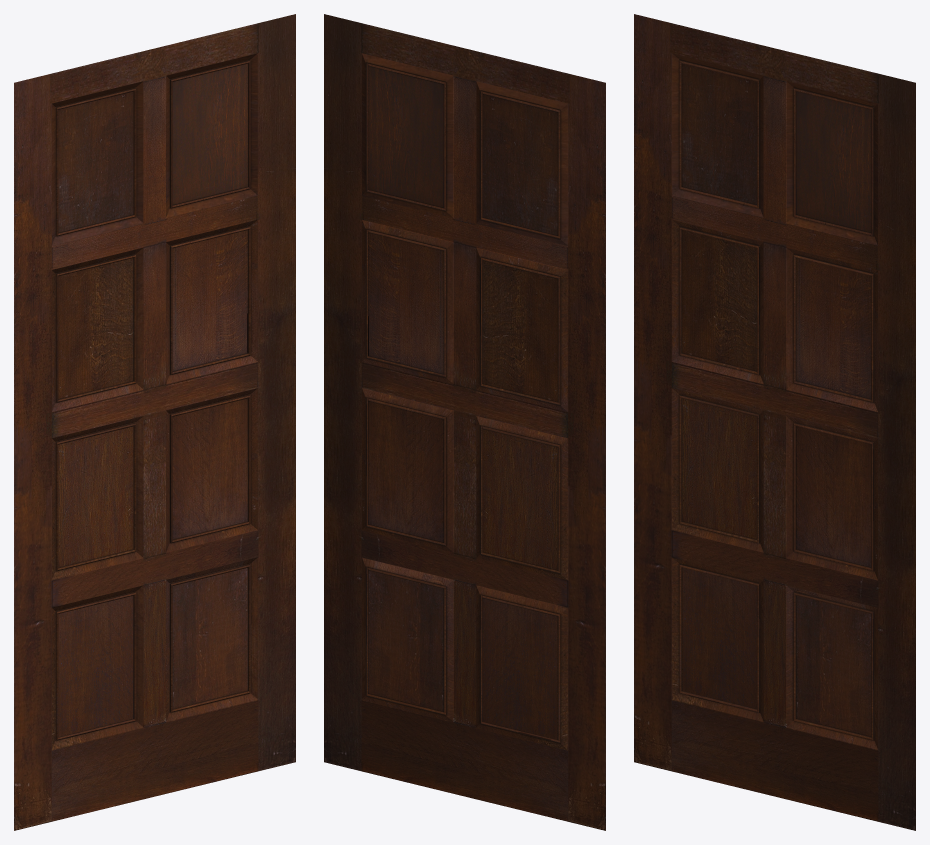
File: SmallDoor.obj
The picture shows the model from 3 angles, left to right: view 1: azimuth 30°, elevation 25°; view 2: azimuth 150°, elevation 25°; view 3: azimuth 330°, elevation 25°; orthographic projection.
Visible parts, largest first — view 1: SmallDoor; view 2: SmallDoor; view 3: SmallDoor.
Boxes of the visible parts, x1=… form: SmallDoor: x1=14, y1=14, x2=295, y2=830; SmallDoor: x1=324, y1=14, x2=605, y2=830; SmallDoor: x1=634, y1=14, x2=915, y2=830.
Size of the model in its own units: 0.9223 by 2.34 by 0.0111.
